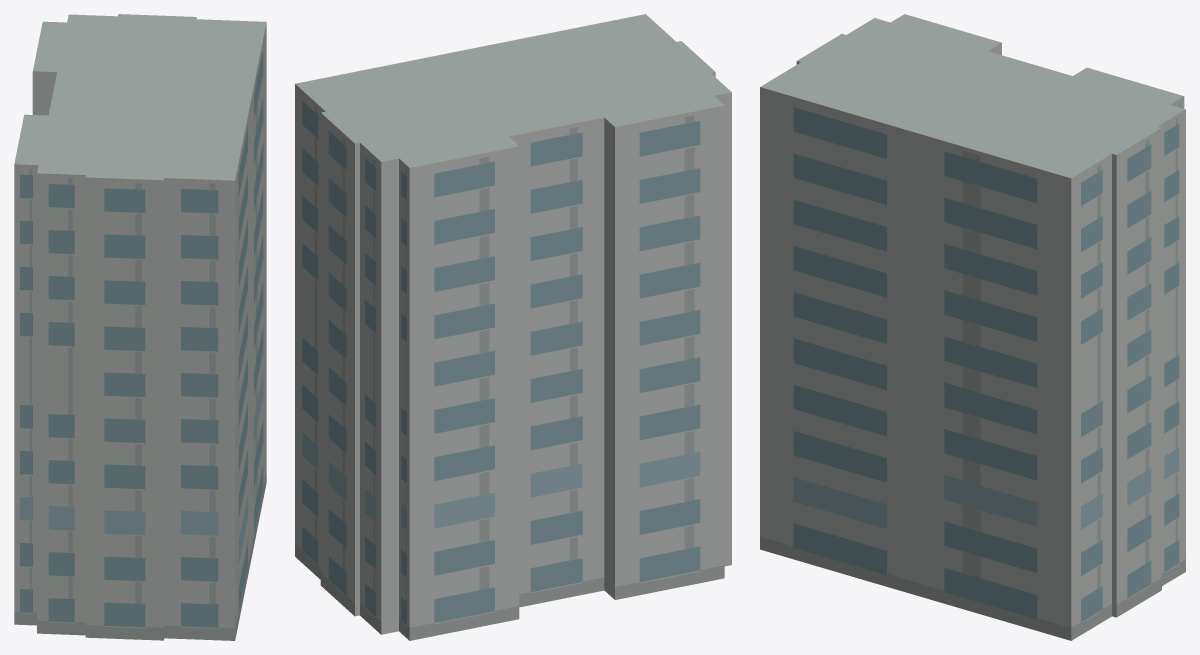
File: survey-upis-32739311.glb
3 renders of one model, left to right at view 1: azimuth 30°, elevation 25°; view 2: azimuth 150°, elevation 25°; view 3: azimuth 270°, elevation 25°, orthographic. The views are drawn at different scales.
Visible parts, largest first — view 1: survey-upis-32739311.tmp; view 2: survey-upis-32739311.tmp; view 3: survey-upis-32739311.tmp.
Part boxes in pixels (x1=…): survey-upis-32739311.tmp: x1=14, y1=14, x2=266, y2=640; survey-upis-32739311.tmp: x1=295, y1=14, x2=731, y2=640; survey-upis-32739311.tmp: x1=760, y1=14, x2=1185, y2=640.
Bounding box in the file's own units: 21.58 × 28.3 × 23.62.
